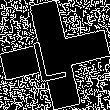L_N: (34, 27, 76, 83)
